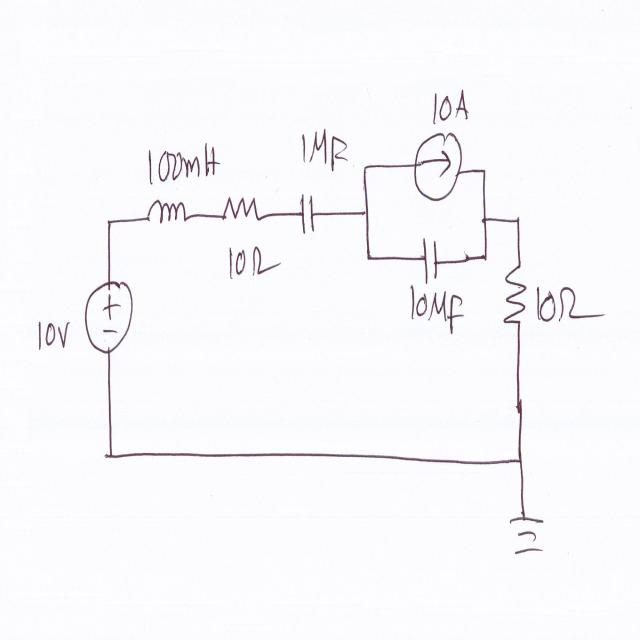capacitor: (296, 184, 322, 246), (418, 229, 444, 287)
current_source: (410, 126, 467, 207)
ground: (506, 504, 549, 561)
inductor: (142, 189, 192, 232)
resistor: (501, 256, 531, 335), (216, 183, 264, 230)
voltage_source: (82, 269, 138, 360)
